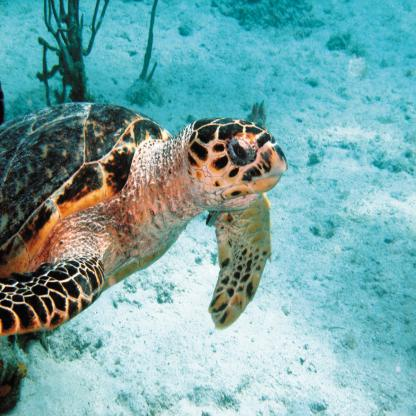turtle: (179, 110, 297, 214)
